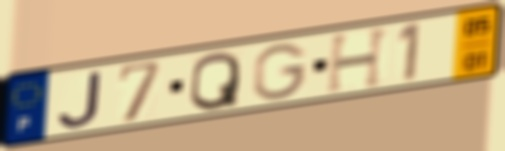1: (395, 20, 422, 84)
7: (116, 58, 164, 125)
G: (252, 41, 312, 103)
H: (324, 24, 395, 96)
J: (56, 68, 106, 130)
Q: (187, 49, 244, 112)
